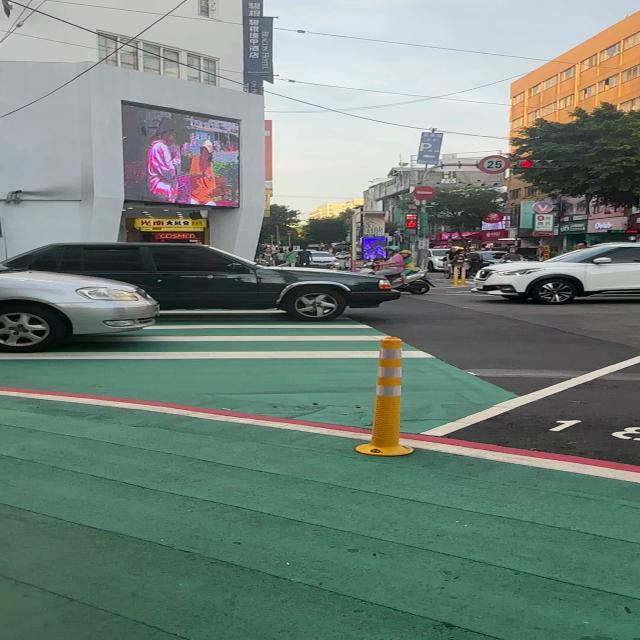Flexible_delineator_post: (355, 338, 415, 456)
car: (7, 242, 395, 320), (0, 269, 159, 352), (472, 242, 640, 304)
crosswalk: (0, 320, 388, 361)
motocycle: (390, 269, 432, 294), (357, 262, 373, 274)
